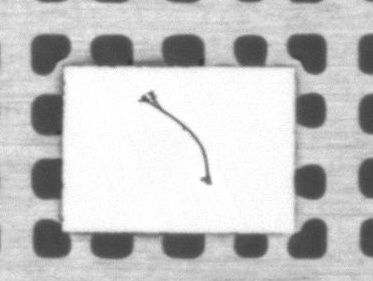DIE_INK: (167, 63, 300, 142)
